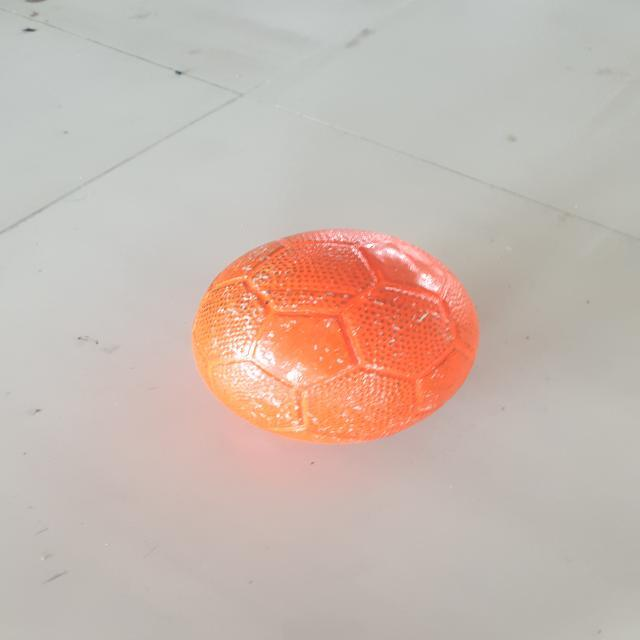bola: (176, 221, 492, 453)
